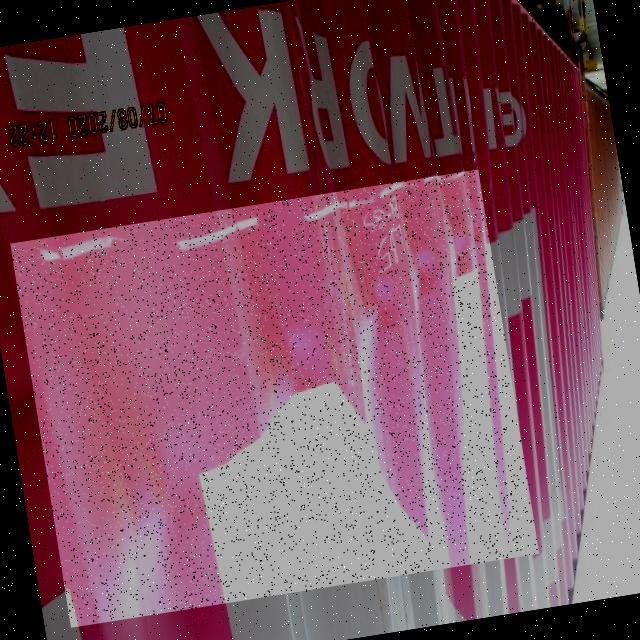Dent: (10, 170, 539, 628)
